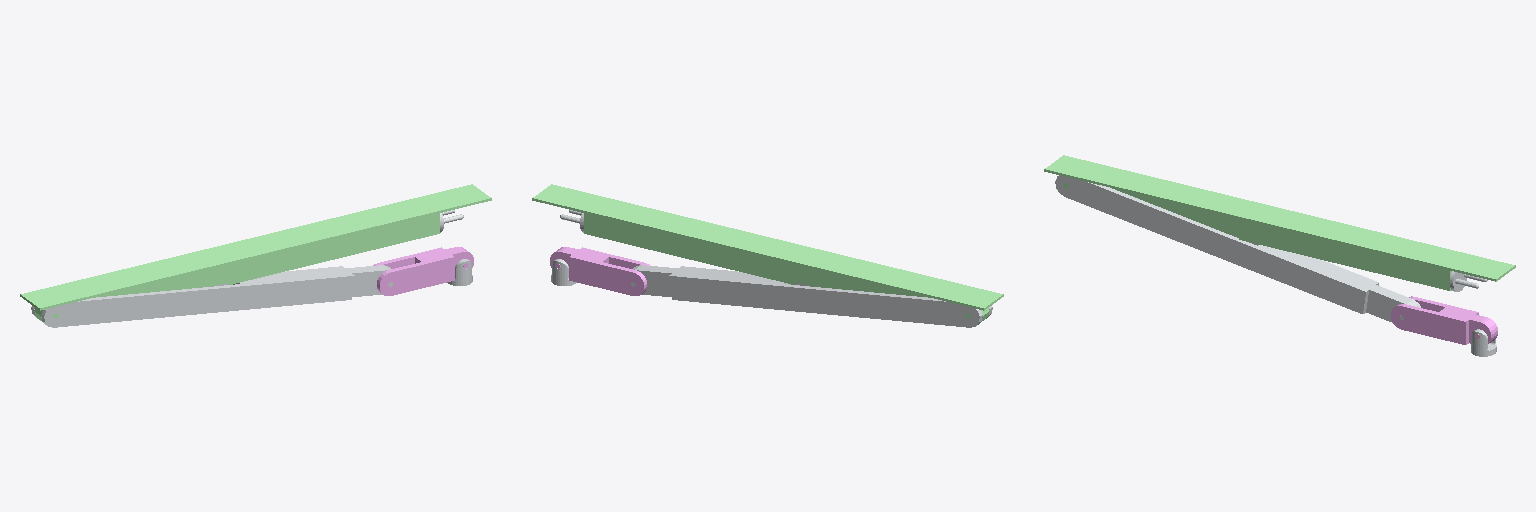
URDF robot description (robot_arm_udrf):
<?xml version="1.0" encoding="utf-8"?>
<!-- This URDF was automatically created by SolidWorks to URDF Exporter! Originally created by Stephen Brawner (brawner@gmail.com) 
     Commit Version: 1.6.0-4-g7f85cfe  Build Version: 1.6.7995.38578
     For more information, please see http://wiki.ros.org/sw_urdf_exporter -->
<robot
  name="robot_arm_udrf">
  <link
    name="base_link">
    <inertial>
      <origin
        xyz="-0.34165 0.033714 0.0477"
        rpy="0 0 0" />
      <mass
        value="11.607" />
      <inertia
        ixx="0.019077"
        ixy="-0.0059616"
        ixz="-0.002206"
        iyy="0.57915"
        iyz="-0.0022209"
        izz="0.57135" />
    </inertial>
    <visual>
      <origin
        xyz="0 0 0"
        rpy="0 0 0" />
      <geometry>
        <mesh
          filename="package://robot_arm_udrf/meshes/base_link.STL" />
      </geometry>
      <material
        name="">
        <color
          rgba="0.89804 0.91765 0.92941 1" />
      </material>
    </visual>
    <collision>
      <origin
        xyz="0 0 0"
        rpy="0 0 0" />
      <geometry>
        <mesh
          filename="package://robot_arm_udrf/meshes/base_link.STL" />
      </geometry>
    </collision>
  </link>
  <link
    name="link_2">
    <inertial>
      <origin
        xyz="-7.2398E-06 0.010411 -2.3341E-08"
        rpy="0 0 0" />
      <mass
        value="0.026759" />
      <inertia
        ixx="4.2875E-06"
        ixy="1.5615E-09"
        ixz="2.6524E-11"
        iyy="3.5517E-06"
        iyz="-7.1209E-13"
        izz="3.0712E-06" />
    </inertial>
    <visual>
      <origin
        xyz="0 0 0"
        rpy="0 0 0" />
      <geometry>
        <mesh
          filename="package://robot_arm_udrf/meshes/link_2.STL" />
      </geometry>
      <material
        name="">
        <color
          rgba="0.89804 0.91765 0.92941 1" />
      </material>
    </visual>
    <collision>
      <origin
        xyz="0 0 0"
        rpy="0 0 0" />
      <geometry>
        <mesh
          filename="package://robot_arm_udrf/meshes/link_2.STL" />
      </geometry>
    </collision>
  </link>
  <joint
    name="joint_1"
    type="continuous">
    <origin
      xyz="0 0 0.014334"
      rpy="1.5708 0 0" />
    <parent
      link="base_link" />
    <child
      link="link_2" />
    <axis
      xyz="0 1 0" />
    <limit
      lower="0"
      upper="6.28"
      effort="300"
      velocity="3" />
  </joint>
  <link
    name="link_3">
    <inertial>
      <origin
        xyz="-0.044274 -1.0408E-17 0"
        rpy="0 0 0" />
      <mass
        value="0.1963" />
      <inertia
        ixx="3.0994E-05"
        ixy="-3.1073E-20"
        ixz="-1.5119E-20"
        iyy="0.00021929"
        iyz="8.7195E-22"
        izz="0.00021667" />
    </inertial>
    <visual>
      <origin
        xyz="0 0 0"
        rpy="0 0 0" />
      <geometry>
        <mesh
          filename="package://robot_arm_udrf/meshes/link_3.STL" />
      </geometry>
      <material
        name="">
        <color
          rgba="1 0.75294 1 1" />
      </material>
    </visual>
    <collision>
      <origin
        xyz="0 0 0"
        rpy="0 0 0" />
      <geometry>
        <mesh
          filename="package://robot_arm_udrf/meshes/link_3.STL" />
      </geometry>
    </collision>
  </link>
  <joint
    name="joint_2"
    type="continuous">
    <origin
      xyz="0 0.025 0"
      rpy="0 0 0" />
    <parent
      link="link_2" />
    <child
      link="link_3" />
    <axis
      xyz="0 0 1" />
    <limit
      lower="0"
      upper="1.57"
      effort="300"
      velocity="3" />
  </joint>
  <link
    name="link_4">
    <inertial>
      <origin
        xyz="-0.19518 -1.4919E-16 -1.7347E-17"
        rpy="0 0 0" />
      <mass
        value="0.74143" />
      <inertia
        ixx="0.00012459"
        ixy="-8.2908E-18"
        ixz="3.2545E-18"
        iyy="0.012188"
        iyz="3.3139E-20"
        izz="0.012174" />
    </inertial>
    <visual>
      <origin
        xyz="0 0 0"
        rpy="0 0 0" />
      <geometry>
        <mesh
          filename="package://robot_arm_udrf/meshes/link_4.STL" />
      </geometry>
      <material
        name="">
        <color
          rgba="0.89804 0.91765 0.92941 1" />
      </material>
    </visual>
    <collision>
      <origin
        xyz="0 0 0"
        rpy="0 0 0" />
      <geometry>
        <mesh
          filename="package://robot_arm_udrf/meshes/link_4.STL" />
      </geometry>
    </collision>
  </link>
  <joint
    name="joint_3"
    type="continuous">
    <origin
      xyz="-0.1 0 0"
      rpy="0 0 -0.14271" />
    <parent
      link="link_3" />
    <child
      link="link_4" />
    <axis
      xyz="0 0 1" />
    <limit
      lower="0"
      upper="0"
      effort="300"
      velocity="3" />
  </joint>
  <link
    name="link_5">
    <inertial>
      <origin
        xyz="-0.27898 -0.0038989 -3.0531E-16"
        rpy="0 0 0" />
      <mass
        value="1.0591" />
      <inertia
        ixx="0.00020709"
        ixy="2.1568E-07"
        ixz="-1.5098E-17"
        iyy="0.025035"
        iyz="1.5732E-20"
        izz="0.025057" />
    </inertial>
    <visual>
      <origin
        xyz="0 0 0"
        rpy="0 0 0" />
      <geometry>
        <mesh
          filename="package://robot_arm_udrf/meshes/link_5.STL" />
      </geometry>
      <material
        name="">
        <color
          rgba="0.75294 1 0.75294 1" />
      </material>
    </visual>
    <collision>
      <origin
        xyz="0 0 0"
        rpy="0 0 0" />
      <geometry>
        <mesh
          filename="package://robot_arm_udrf/meshes/link_5.STL" />
      </geometry>
    </collision>
  </link>
  <joint
    name="joint_4"
    type="continuous">
    <origin
      xyz="-0.45 0 0"
      rpy="0 0 -2.9989" />
    <parent
      link="link_4" />
    <child
      link="link_5" />
    <axis
      xyz="0 0 1" />
    <limit
      lower="0"
      upper="0"
      effort="300"
      velocity="3" />
  </joint>
  <link
    name="link_6">
    <inertial>
      <origin
        xyz="3.9138E-09 0 0.18902"
        rpy="0 0 0" />
      <mass
        value="0.15645" />
      <inertia
        ixx="0.001866"
        ixy="1.0044E-21"
        ixz="-3.8556E-11"
        iyy="0.001866"
        iyz="3.1328E-20"
        izz="3.9105E-06" />
    </inertial>
    <visual>
      <origin
        xyz="0 0 0"
        rpy="0 0 0" />
      <geometry>
        <mesh
          filename="package://robot_arm_udrf/meshes/link_6.STL" />
      </geometry>
      <material
        name="">
        <color
          rgba="0.89804 0.91765 0.92941 1" />
      </material>
    </visual>
    <collision>
      <origin
        xyz="0 0 0"
        rpy="0 0 0" />
      <geometry>
        <mesh
          filename="package://robot_arm_udrf/meshes/link_6.STL" />
      </geometry>
    </collision>
  </link>
  <joint
    name="joint_5"
    type="prismatic">
    <origin
      xyz="-0.13 0.003 0"
      rpy="3.1416 -1.5708 3.1416" />
    <parent
      link="link_5" />
    <child
      link="link_6" />
    <axis
      xyz="0 0 1" />
    <limit
      lower="0"
      upper="0.38"
      effort="300"
      velocity="0.1" />
  </joint>
  <link
    name="link_7">
    <inertial>
      <origin
        xyz="-2.4286E-17 1.3878E-17 -0.010838"
        rpy="0 0 0" />
      <mass
        value="0.017016" />
      <inertia
        ixx="2.201E-06"
        ixy="-2.275E-38"
        ixz="-2.6344E-22"
        iyy="2.6235E-06"
        iyz="-1.3349E-23"
        izz="2.2149E-06" />
    </inertial>
    <visual>
      <origin
        xyz="0 0 0"
        rpy="0 0 0" />
      <geometry>
        <mesh
          filename="package://robot_arm_udrf/meshes/link_7.STL" />
      </geometry>
      <material
        name="">
        <color
          rgba="0.89804 0.91765 0.92941 1" />
      </material>
    </visual>
    <collision>
      <origin
        xyz="0 0 0"
        rpy="0 0 0" />
      <geometry>
        <mesh
          filename="package://robot_arm_udrf/meshes/link_7.STL" />
      </geometry>
    </collision>
  </link>
  <joint
    name="joint_6"
    type="revolute">
    <origin
      xyz="0 0 0.376"
      rpy="3.1416 0 0" />
    <parent
      link="link_6" />
    <child
      link="link_7" />
    <axis
      xyz="0 0 1" />
    <limit
      lower="0"
      upper="0"
      effort="300"
      velocity="3" />
  </joint>
</robot>

--- What the picture shows (computed from the rendered views, not written in the file) ---
Views: 3 orthographic renders of the robot side by side, from view 1: azimuth 30°, elevation 25°; view 2: azimuth 150°, elevation 25°; view 3: azimuth 330°, elevation 25°.
Model robot_arm_udrf with 7 links and 6 joints (1 revolute, 4 continuous, 1 prismatic), rooted at base_link, posed all joints at 0.
Links seen in each view (by area): view 1: link_5, link_4, link_3; view 2: link_5, link_4, link_3; view 3: link_5, link_4, link_3.
Link boxes in pixels (x1,y1,x2,y2): link_5: (20, 184, 491, 323); link_4: (31, 265, 392, 327); link_3: (373, 247, 473, 295); link_5: (532, 184, 1003, 323); link_4: (631, 265, 992, 327); link_3: (550, 247, 650, 295); link_5: (1044, 155, 1515, 290); link_4: (1055, 175, 1420, 322); link_3: (1391, 296, 1497, 344).
Size in the robot's own frame: 0.6 by 0.0442 by 0.107 metres.
6 mesh visuals loaded from 7 distinct referenced files (6 binary STL); not drawn: 1 (reference not matched to a file when rendering).
